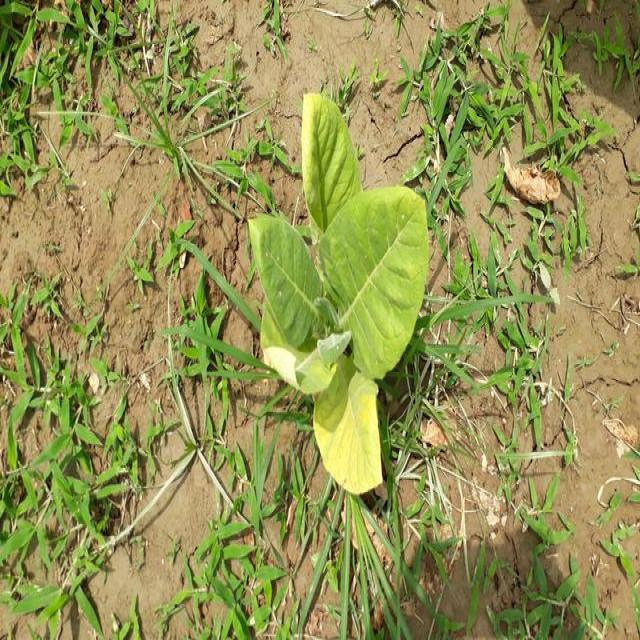crop: (247, 87, 438, 491)
